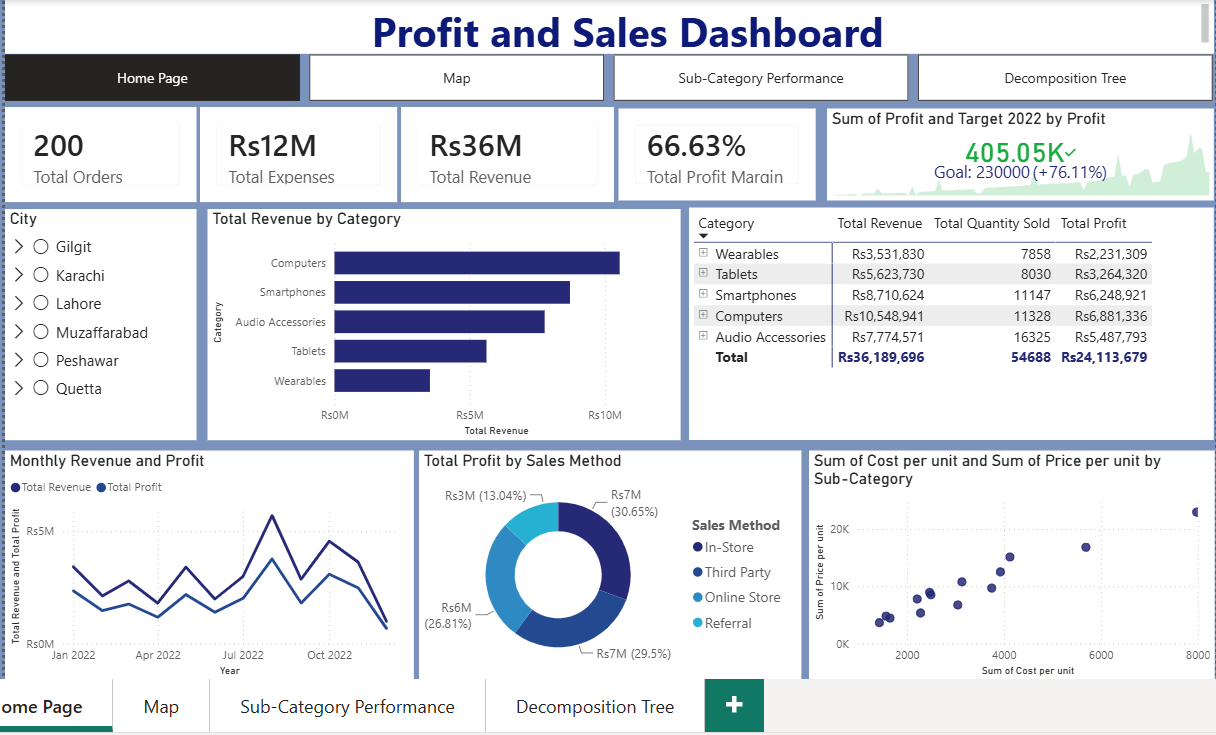

The page's visual inventory and layout, read from the dashboard file:
{"tool":"powerbi","page":{"name":"Home Page ","canvas":[1280,720],"ordinal":0},"visuals":[{"type":"barChart","fields":{"Category":["Data.Category"],"Y":["Data.Total Revenue"]},"box":[213.7,221.8,500.3,244.5],"z":0},{"type":"lineChart","title":"Monthly Revenue and Profit","fields":{"Category":["Data.Date.Variation.Date Hierarchy.Year","Data.Date.Variation.Date Hierarchy.Month"],"Y":["Data.Total Revenue","Data.Total Profit"]},"box":[0,477.7,432.3,242.9],"z":1000},{"type":"donutChart","fields":{"Category":["Data.Sales Method"],"Y":["Data.Total Profit"]},"box":[438.8,477.1,404.8,242.9],"z":2000},{"type":"pivotTable","fields":{"Rows":["Data.Category","Data.Sub-Category"],"Values":["Data.Total Revenue","Data.Total Quantity Sold","Data.Total Profit"]},"box":[723.8,221.1,555.6,245.7],"z":3000},{"type":"pageNavigator","box":[0,58.6,1279.4,49.1],"z":4000},{"type":"textbox","box":[0,0,1279.2,58.3],"z":5000},{"type":"scatterChart","fields":{"Category":["Data.Sub-Category"],"X":["Sum(Data.Cost per unit)"],"Y":["Sum(Data.Price per unit)"]},"box":[850.1,477.7,429.1,242.9],"z":6000},{"type":"listSlicer","fields":{"Values":["Data.City","Data.Category","Data.Sales Method","Data.Date.Variation.Date Hierarchy.Year","Data.Date.Variation.Date Hierarchy.Quarter","Data.Date.Variation.Date Hierarchy.Month","Data.Date.Variation.Date Hierarchy.Day"]},"box":[0,221.8,202.4,244.5],"z":7000},{"type":"cardVisual","fields":{"Data":["Data.Total Orders"]},"box":[0,115,202.4,100.4],"z":8000},{"type":"cardVisual","fields":{"Data":["Data.Total Expenses"]},"box":[205.6,115,208.9,100.4],"z":9000},{"type":"cardVisual","fields":{"Data":["Data.Total Revenue"]},"box":[419.4,115,225.1,100.4],"z":10000},{"type":"cardVisual","fields":{"Data":["Data.Total Profit Margin"]},"box":[649.3,116.6,208.9,97.2],"z":11000},{"type":"kpi","fields":{"Goal":["Data.Target 2022"],"Indicator":["Sum(Data.Profit)"],"TrendLine":["Data.Profit"]},"box":[869.5,116.6,409.7,97.2],"z":12000}]}

Visuals, with their boxes in screenshot pixels (x1, y1, x2, y2):
barChart - Data.Category x Data.Total Revenue: left=203, top=205, right=672, bottom=434
"Monthly Revenue and Profit" lineChart: left=3, top=444, right=408, bottom=672
donutChart - Data.Sales Method x Data.Total Profit: left=414, top=444, right=794, bottom=671
pivotTable - Data.Category x Data.Sub-Category: left=681, top=204, right=1202, bottom=434
pageNavigator: left=3, top=52, right=1202, bottom=98
textbox: left=3, top=0, right=1202, bottom=51
scatterChart - Data.Sub-Category x Sum(Data.Cost per unit): left=800, top=444, right=1202, bottom=672
listSlicer - Data.City x Data.Category: left=3, top=205, right=193, bottom=434
cardVisual - Data.Total Orders: left=3, top=105, right=193, bottom=199
cardVisual - Data.Total Expenses: left=196, top=105, right=392, bottom=199
cardVisual - Data.Total Revenue: left=396, top=105, right=607, bottom=199
cardVisual - Data.Total Profit Margin: left=611, top=106, right=807, bottom=197
kpi - Data.Target 2022 x Sum(Data.Profit): left=818, top=106, right=1202, bottom=197
